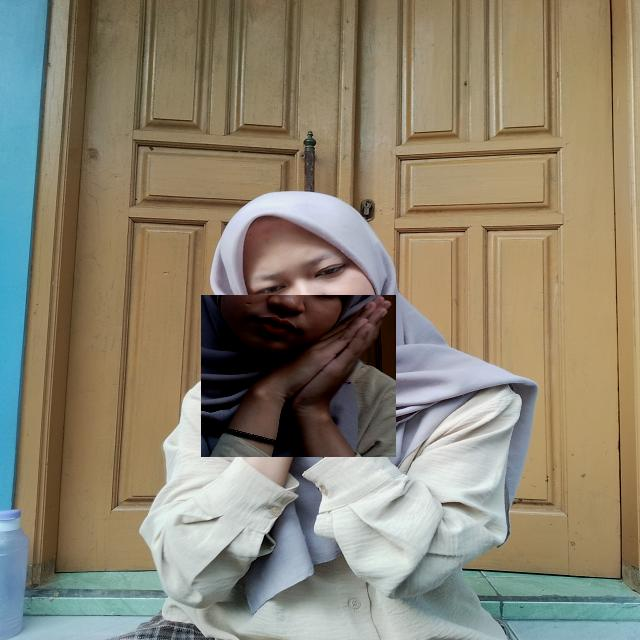tidur: (201, 295, 396, 457)
